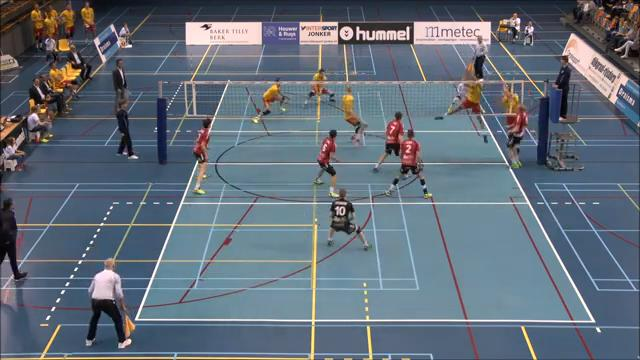attacco: (502, 102, 528, 168)
